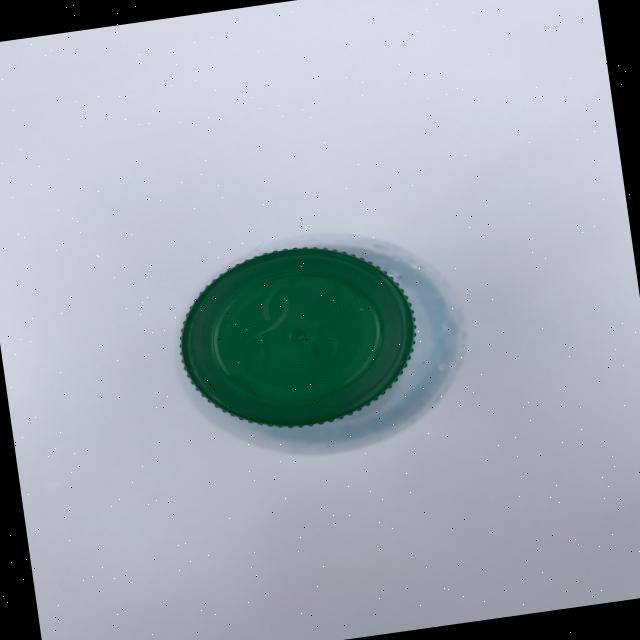plastic: (167, 230, 429, 443)
